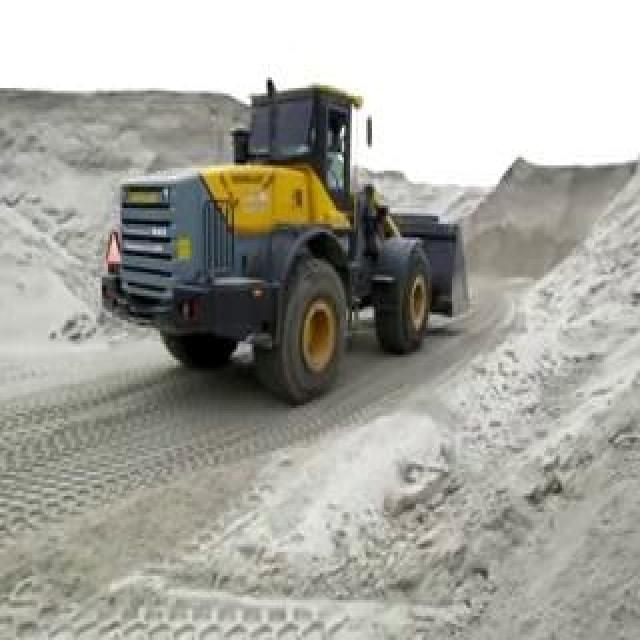Loader: (98, 72, 470, 403)
